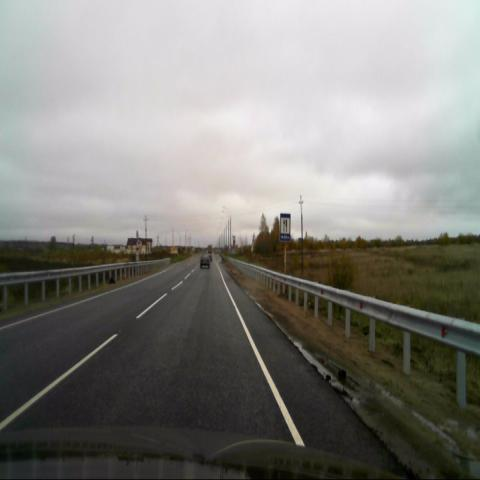7_7: (280, 213, 290, 241)
